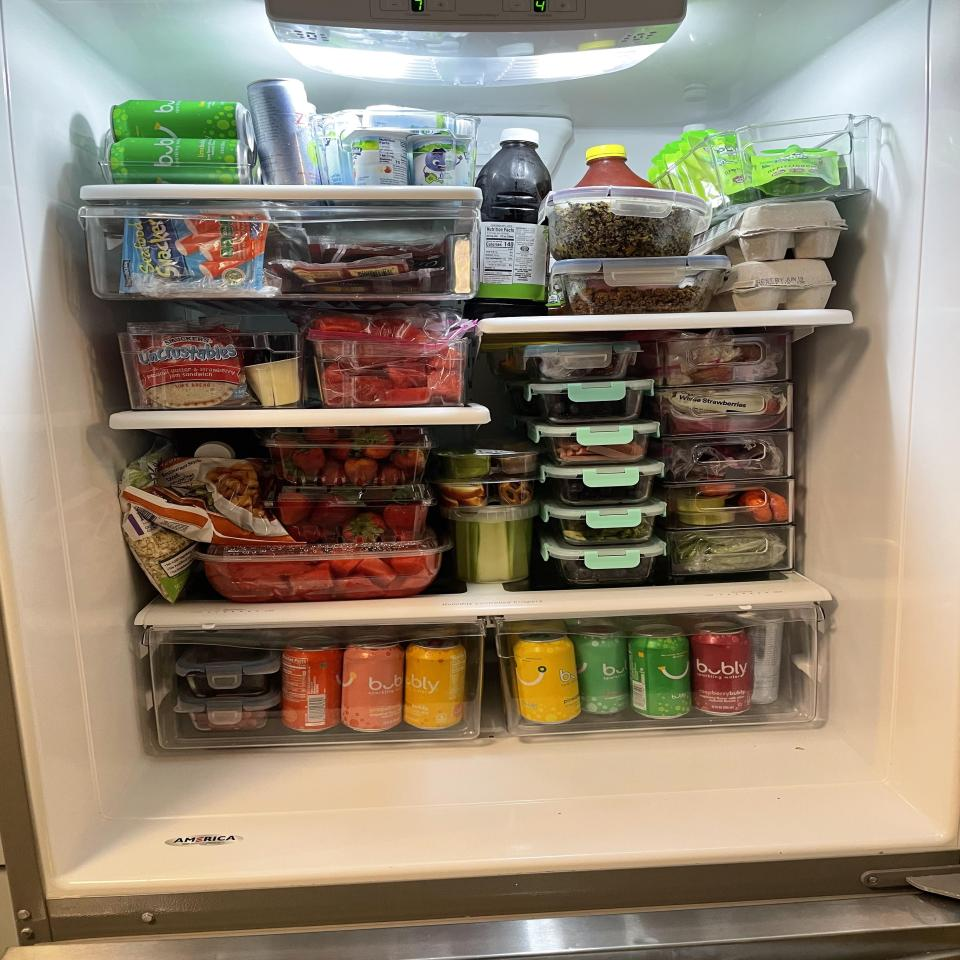Huevos: (686, 200, 848, 262), (712, 259, 836, 312)
Queso: (247, 358, 301, 407), (454, 238, 471, 294)
